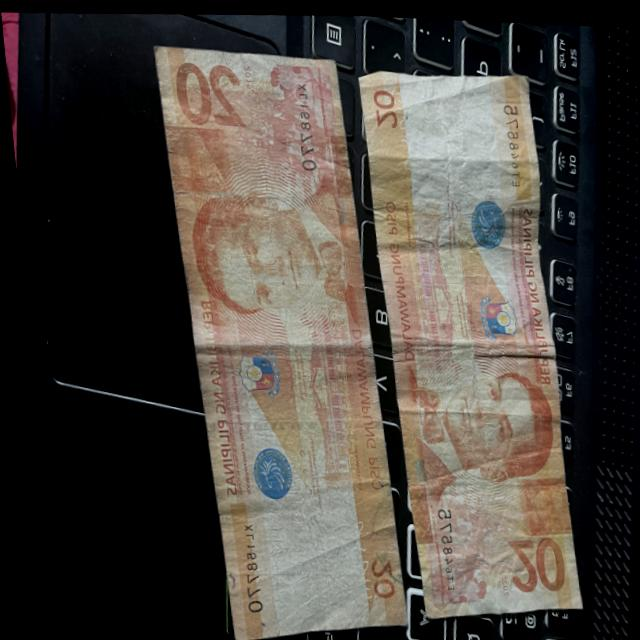concealed_value: (162, 121, 230, 192), (503, 470, 563, 533)
see_through_mark: (325, 496, 372, 611), (386, 83, 418, 182)
serial_number: (282, 71, 322, 175), (218, 508, 257, 614), (492, 93, 527, 194), (423, 496, 453, 588)
value: (158, 51, 255, 134), (487, 522, 562, 598)
watermark: (406, 80, 504, 194)
